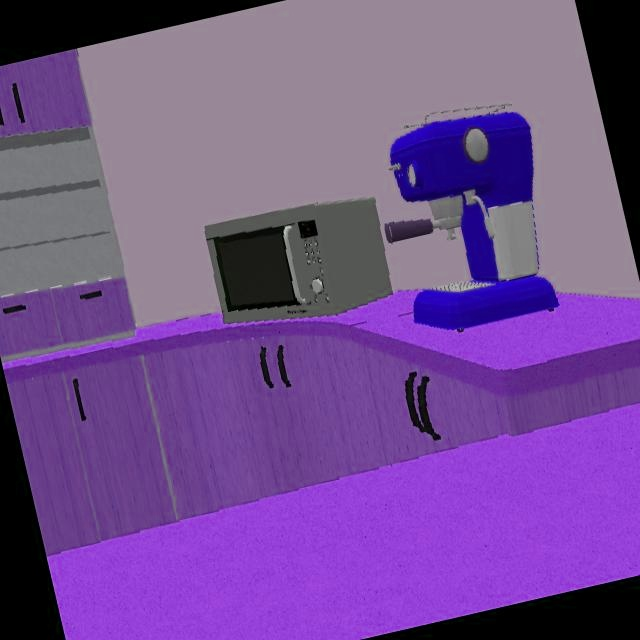countertop: (48, 402, 640, 640), (1, 290, 640, 398)
microwave: (205, 200, 393, 321)
shelf: (0, 87, 124, 298)
